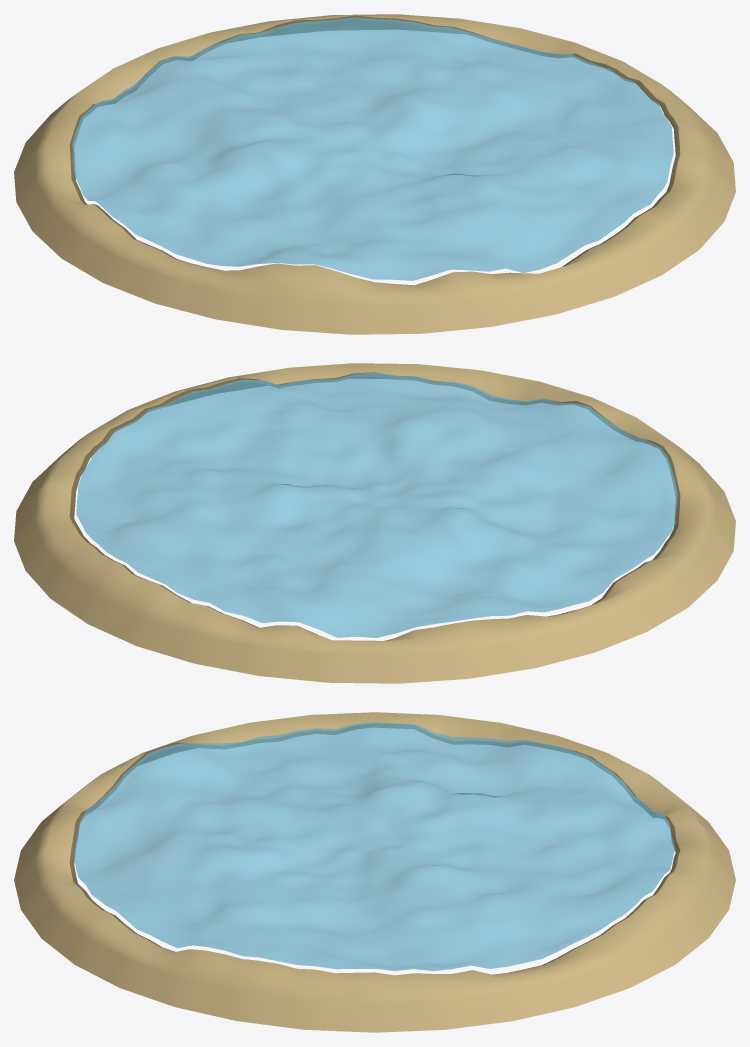
The model's file is Updated, Circle Water.fbx.
3 renders of one model, top to bottom at view 1: azimuth 30°, elevation 25°; view 2: azimuth 150°, elevation 25°; view 3: azimuth 270°, elevation 25°, orthographic.
Visible parts, largest first — view 1: Circle, Circle.001; view 2: Circle, Circle.001; view 3: Circle, Circle.001.
Part boxes in pixels (x1=…): Circle: x1=72, y1=17, x2=673, y2=280; Circle.001: x1=14, y1=14, x2=735, y2=334; Circle: x1=76, y1=372, x2=677, y2=637; Circle.001: x1=14, y1=363, x2=735, y2=683; Circle: x1=74, y1=722, x2=675, y2=971; Circle.001: x1=14, y1=712, x2=735, y2=1032.
Size of the model in its own units: 4862 by 359 by 4862.
